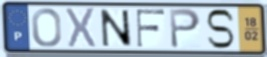F: (135, 8, 166, 49)
N: (99, 8, 134, 48)
O: (30, 7, 63, 49)
P: (168, 8, 202, 50)
S: (205, 8, 237, 50)
X: (64, 6, 97, 50)
